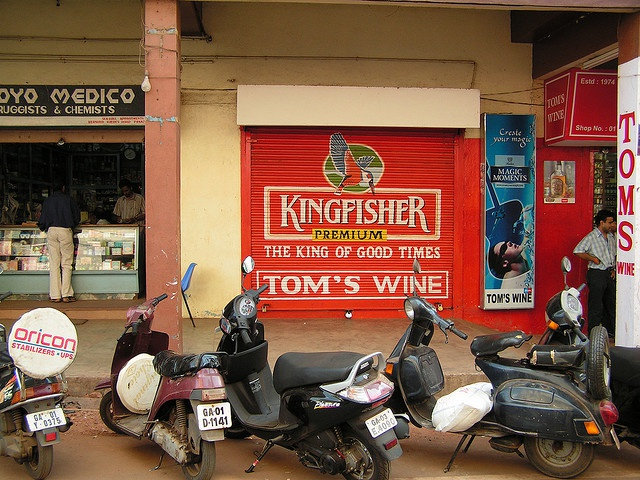non-vehicle: (383, 256, 622, 478), (214, 255, 411, 480), (93, 293, 231, 480), (536, 255, 640, 449), (0, 308, 80, 480)
